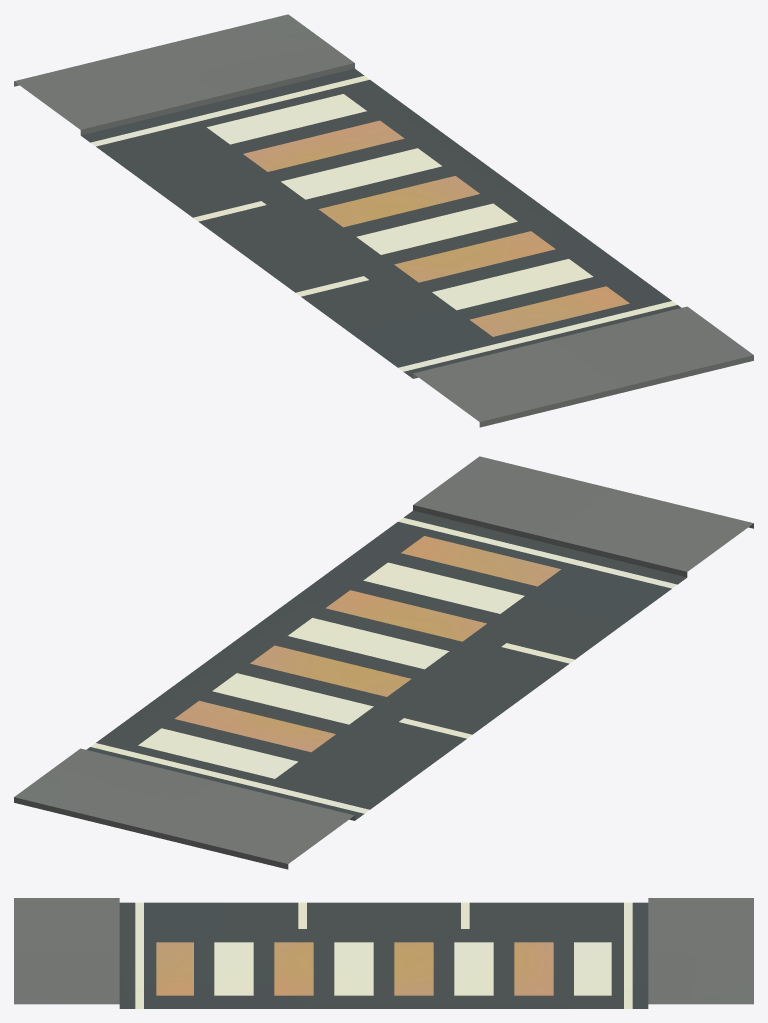
File: city_road_crosswalk.glb
3 views of the same model, one above another, from view 1: azimuth 30°, elevation 25°; view 2: azimuth 150°, elevation 25°; view 3: azimuth 270°, elevation 25° (orthographic). The views are drawn at different scales.
Visible parts, largest first — view 1: Road_Crosswalk_Mat_0; view 2: Road_Crosswalk_Mat_0; view 3: Road_Crosswalk_Mat_0.
Boxes of the visible parts, x1=… form: Road_Crosswalk_Mat_0: x1=14, y1=14, x2=753, y2=427; Road_Crosswalk_Mat_0: x1=14, y1=456, x2=753, y2=869; Road_Crosswalk_Mat_0: x1=14, y1=898, x2=753, y2=1008.
Size of the model in its own units: 2.04 by 0.0396 by 6.
1 material, 1 textured.
